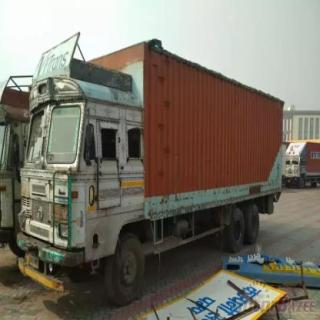Normal_vehicle: (13, 35, 284, 302)
